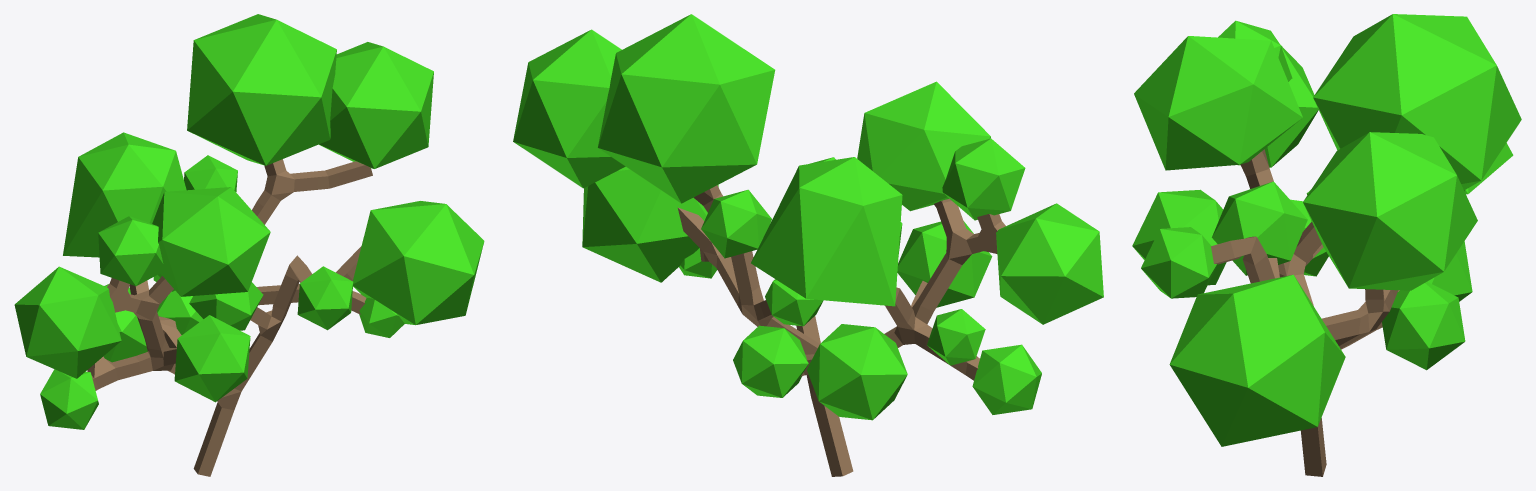
Rendered from Tree2.glb.
3 renders of one model, left to right at view 1: azimuth 30°, elevation 25°; view 2: azimuth 150°, elevation 25°; view 3: azimuth 270°, elevation 25°, orthographic. The views are drawn at different scales.
Parts seen in each view (by area): view 1: Leaves, Tree; view 2: Leaves, Tree; view 3: Leaves, Tree.
Part boxes in pixels (left/top/right/bottom): Leaves: left=14, top=14, right=484, bottom=429; Tree: left=87, top=159, right=372, bottom=476; Leaves: left=513, top=14, right=1103, bottom=420; Tree: left=677, top=185, right=1005, bottom=476; Leaves: left=1132, top=14, right=1521, bottom=446; Tree: left=1211, top=149, right=1399, bottom=476.
Size of the model in its own units: 4.45 by 3.77 by 2.54.
